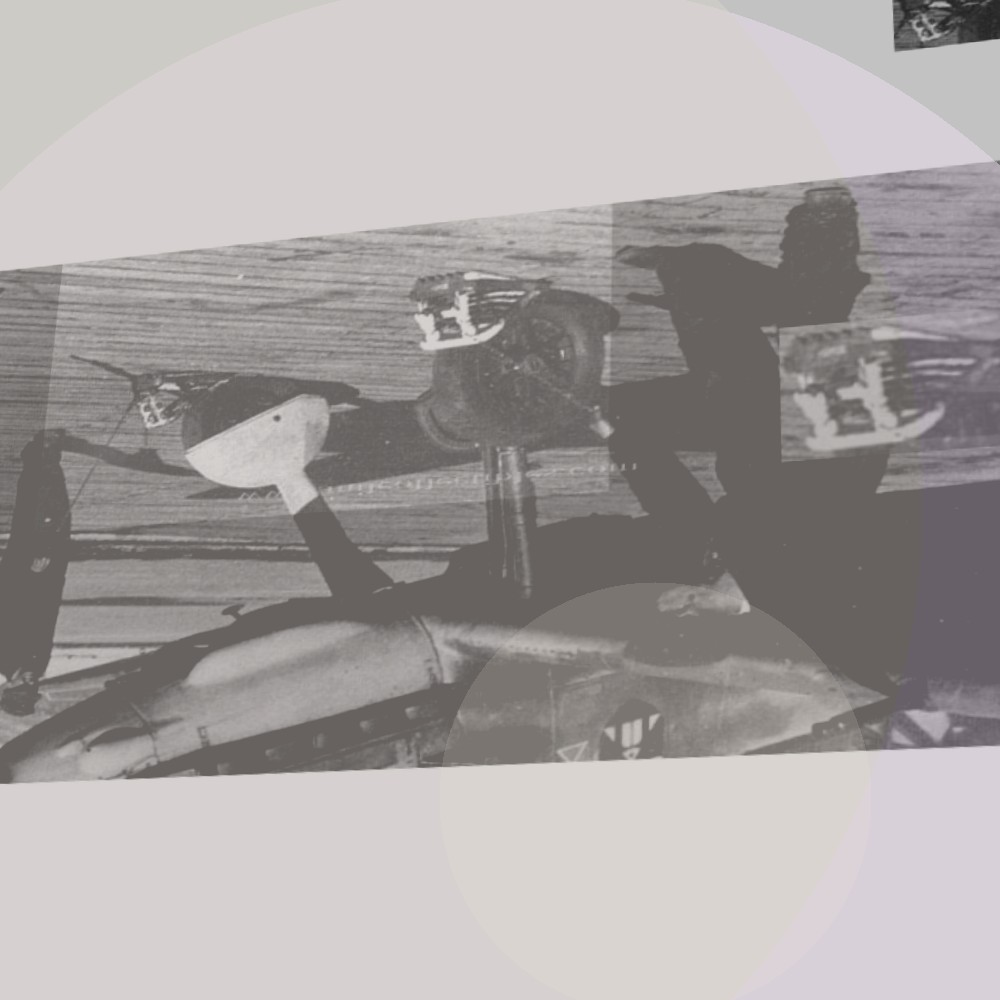chock: (774, 305, 1000, 463), (401, 257, 562, 358), (116, 359, 234, 439), (891, 0, 1000, 52)
wheel: (400, 283, 624, 458), (162, 370, 340, 503)
